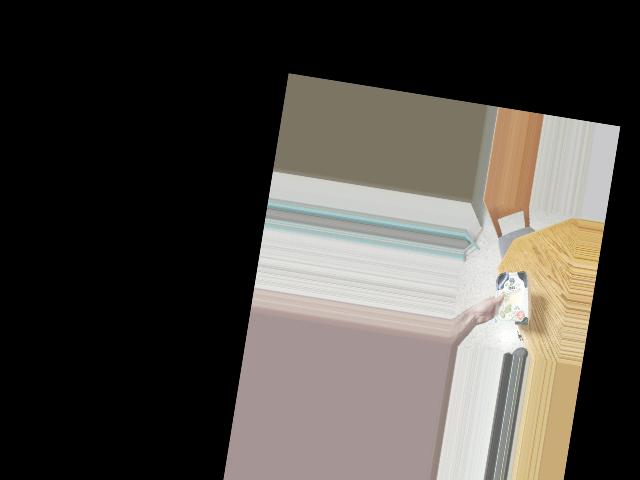cheese: (479, 266, 539, 331)
